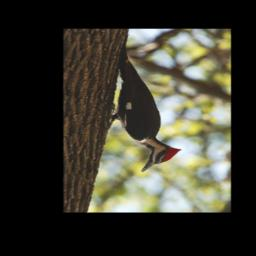Woodpecker: (99, 34, 182, 173)
